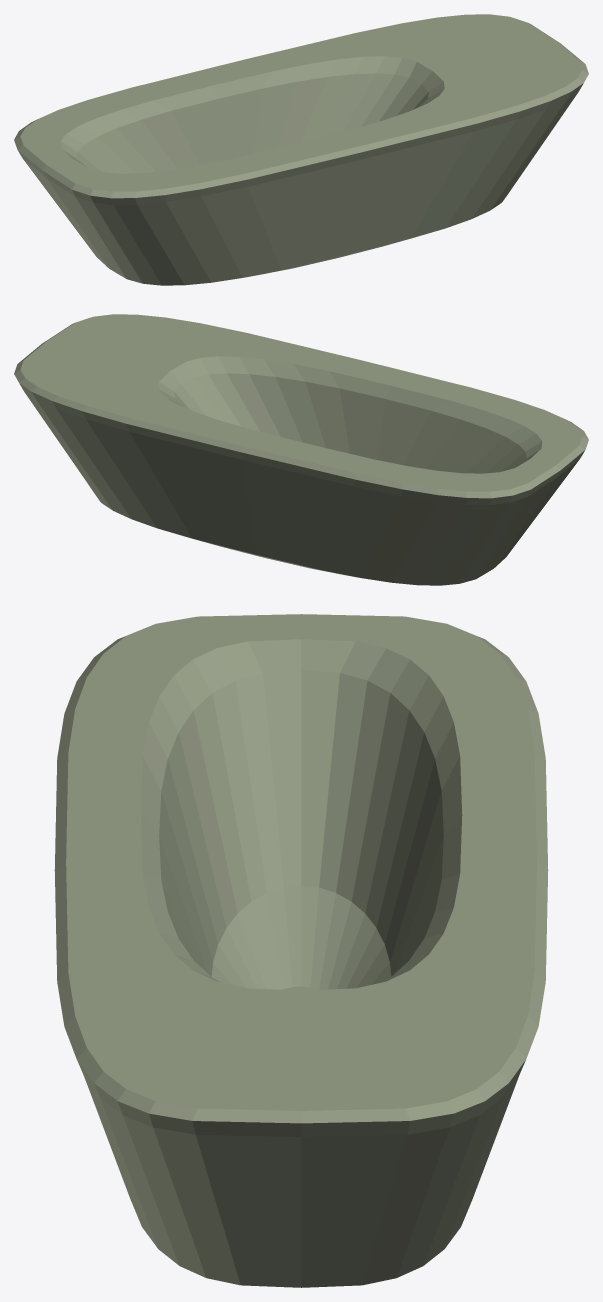
File: SinkBasin.fbx
3 renders of one model, top to bottom at view 1: azimuth 30°, elevation 25°; view 2: azimuth 150°, elevation 25°; view 3: azimuth 270°, elevation 25°, orthographic. The views are drawn at different scales.
Parts seen in each view (by area): view 1: SinkBasin; view 2: SinkBasin; view 3: SinkBasin.
Part boxes in pixels (x1=…): SinkBasin: x1=14, y1=14, x2=588, y2=285; SinkBasin: x1=14, y1=314, x2=588, y2=585; SinkBasin: x1=54, y1=614, x2=548, y2=1287.
Bounding box in the file's own units: 0.85 × 0.2 × 0.35.
